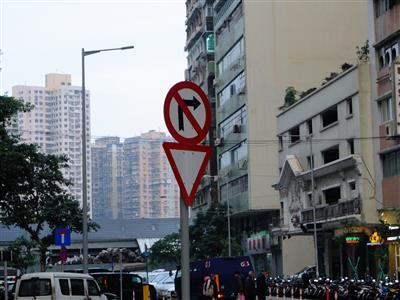deadEnd: (54, 226, 70, 245)
noRightTurn: (161, 79, 212, 146)
noStopping: (59, 245, 67, 262)
yield: (160, 140, 217, 207)
